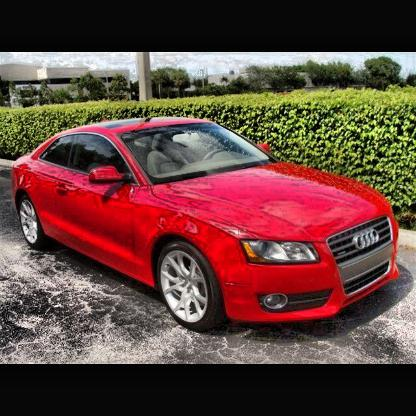Audi A5 Coupe 2012: (12, 117, 400, 334)
